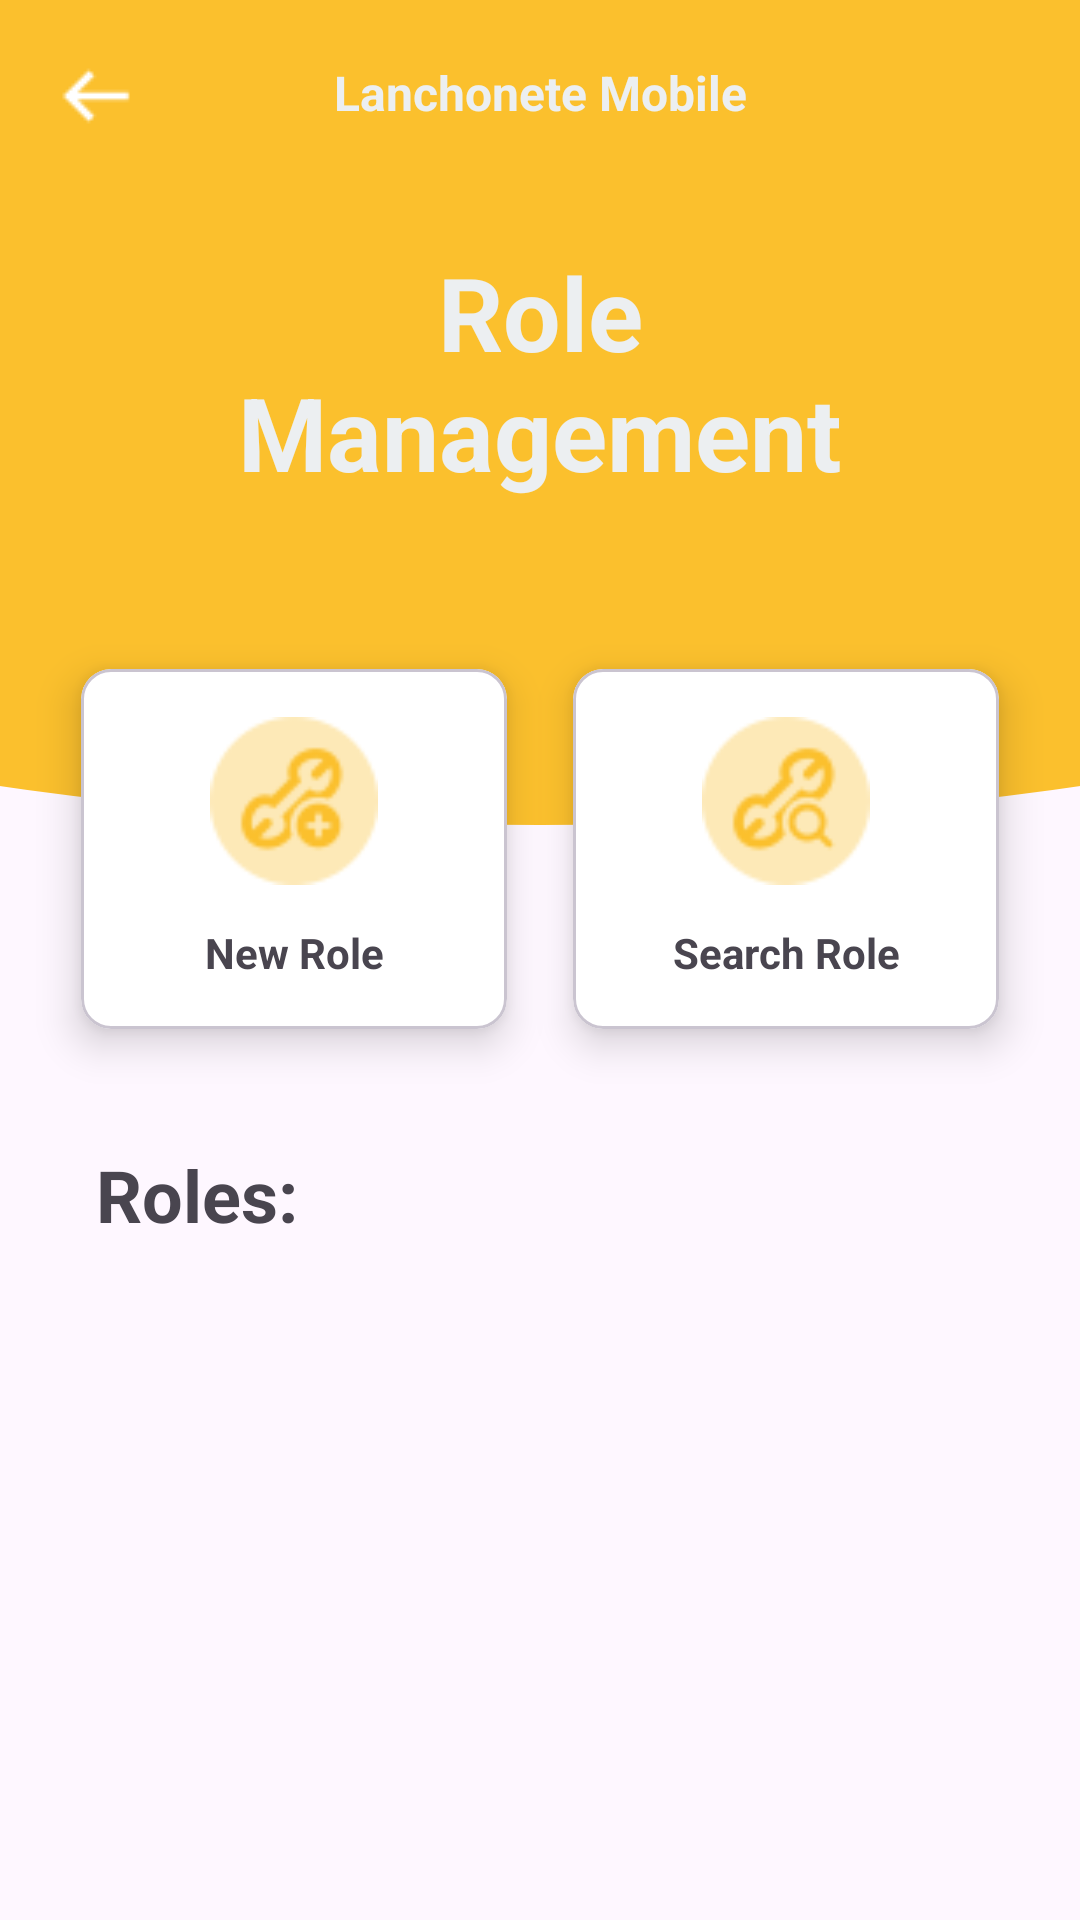

Named icons in this screenshot (1080×1920) and their bounding boxes, (x1, y1, x2, y2):
Back: (62, 69, 130, 123)
